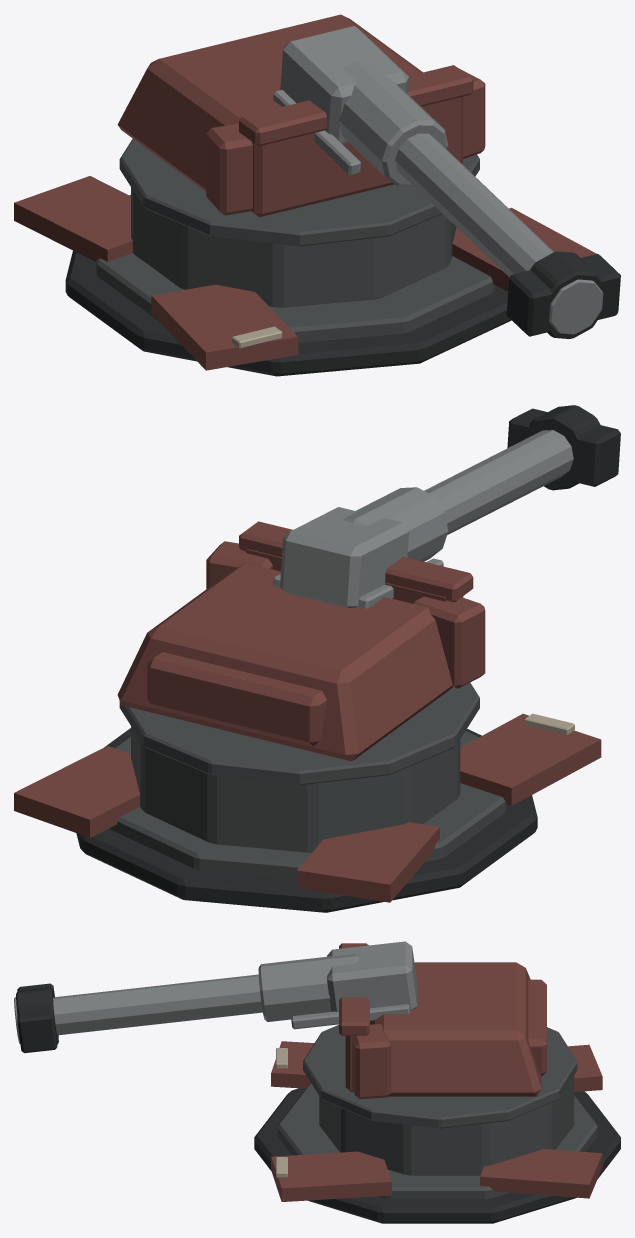
File: ff_en_can_01_v1.glb
3 renders of one model, top to bottom at view 1: azimuth 30°, elevation 25°; view 2: azimuth 150°, elevation 25°; view 3: azimuth 270°, elevation 25°, orthographic. The views are drawn at different scales.
Parts seen in each view (by area): view 1: FF_EN_CAN_01_M_EnemyObsidianArmor_runtime, turret_yaw_M_EnemyCrimsonArmor_runtime, barrel_pitch_M_EnemyGunmetal_runtime, FF_EN_CAN_01_M_EnemyCrimsonArmor_runtime, FF_EN_CAN_01_M_EnemyRecess_runtime, barrel_pitch_M_EnemyRecess_runtime, FF_EN_CAN_01_M_EnemyMarking_runtime; view 2: turret_yaw_M_EnemyCrimsonArmor_runtime, FF_EN_CAN_01_M_EnemyObsidianArmor_runtime, FF_EN_CAN_01_M_EnemyCrimsonArmor_runtime, barrel_pitch_M_EnemyGunmetal_runtime, FF_EN_CAN_01_M_EnemyRecess_runtime, barrel_pitch_M_EnemyRecess_runtime; view 3: FF_EN_CAN_01_M_EnemyObsidianArmor_runtime, turret_yaw_M_EnemyCrimsonArmor_runtime, barrel_pitch_M_EnemyGunmetal_runtime, FF_EN_CAN_01_M_EnemyCrimsonArmor_runtime, FF_EN_CAN_01_M_EnemyRecess_runtime, barrel_pitch_M_EnemyRecess_runtime, FF_EN_CAN_01_M_EnemyMarking_runtime.
Part boxes in pixels (left/top/right/bottom): FF_EN_CAN_01_M_EnemyObsidianArmor_runtime: left=96, top=139, right=495, bottom=343; turret_yaw_M_EnemyCrimsonArmor_runtime: left=117, top=14, right=485, bottom=217; barrel_pitch_M_EnemyGunmetal_runtime: left=273, top=26, right=603, bottom=334; FF_EN_CAN_01_M_EnemyCrimsonArmor_runtime: left=14, top=176, right=596, bottom=370; FF_EN_CAN_01_M_EnemyRecess_runtime: left=65, top=195, right=511, bottom=376; barrel_pitch_M_EnemyRecess_runtime: left=506, top=251, right=620, bottom=338; FF_EN_CAN_01_M_EnemyMarking_runtime: left=232, top=326, right=282, bottom=348; turret_yaw_M_EnemyCrimsonArmor_runtime: left=117, top=521, right=485, bottom=761; FF_EN_CAN_01_M_EnemyObsidianArmor_runtime: left=110, top=682, right=507, bottom=878; FF_EN_CAN_01_M_EnemyCrimsonArmor_runtime: left=14, top=713, right=601, bottom=902; barrel_pitch_M_EnemyGunmetal_runtime: left=273, top=430, right=573, bottom=608; FF_EN_CAN_01_M_EnemyRecess_runtime: left=76, top=728, right=537, bottom=912; barrel_pitch_M_EnemyRecess_runtime: left=507, top=405, right=620, bottom=490; FF_EN_CAN_01_M_EnemyObsidianArmor_runtime: left=277, top=1025, right=597, bottom=1199; turret_yaw_M_EnemyCrimsonArmor_runtime: left=339, top=943, right=546, bottom=1099; barrel_pitch_M_EnemyGunmetal_runtime: left=14, top=941, right=417, bottom=1043; FF_EN_CAN_01_M_EnemyCrimsonArmor_runtime: left=271, top=1041, right=602, bottom=1201; FF_EN_CAN_01_M_EnemyRecess_runtime: left=254, top=1088, right=620, bottom=1223; barrel_pitch_M_EnemyRecess_runtime: left=16, top=983, right=58, bottom=1053; FF_EN_CAN_01_M_EnemyMarking_runtime: left=276, top=1048, right=287, bottom=1177.
Size of the model in its own units: 6.94 by 4.31 by 12.01.
